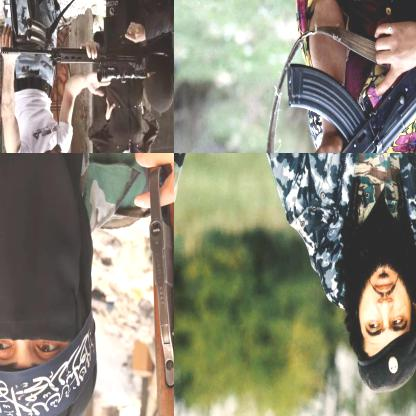rifle: (195, 0, 415, 152), (0, 26, 172, 85), (141, 153, 173, 415)
